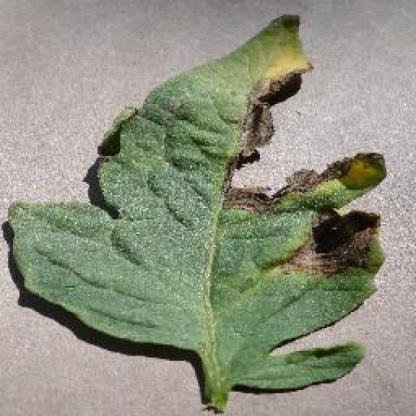Tomato_Blight: (9, 16, 384, 389)
